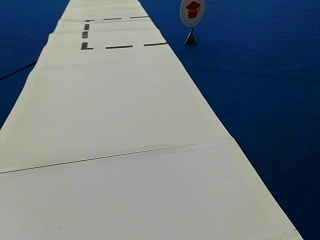school: (179, 1, 204, 25)
